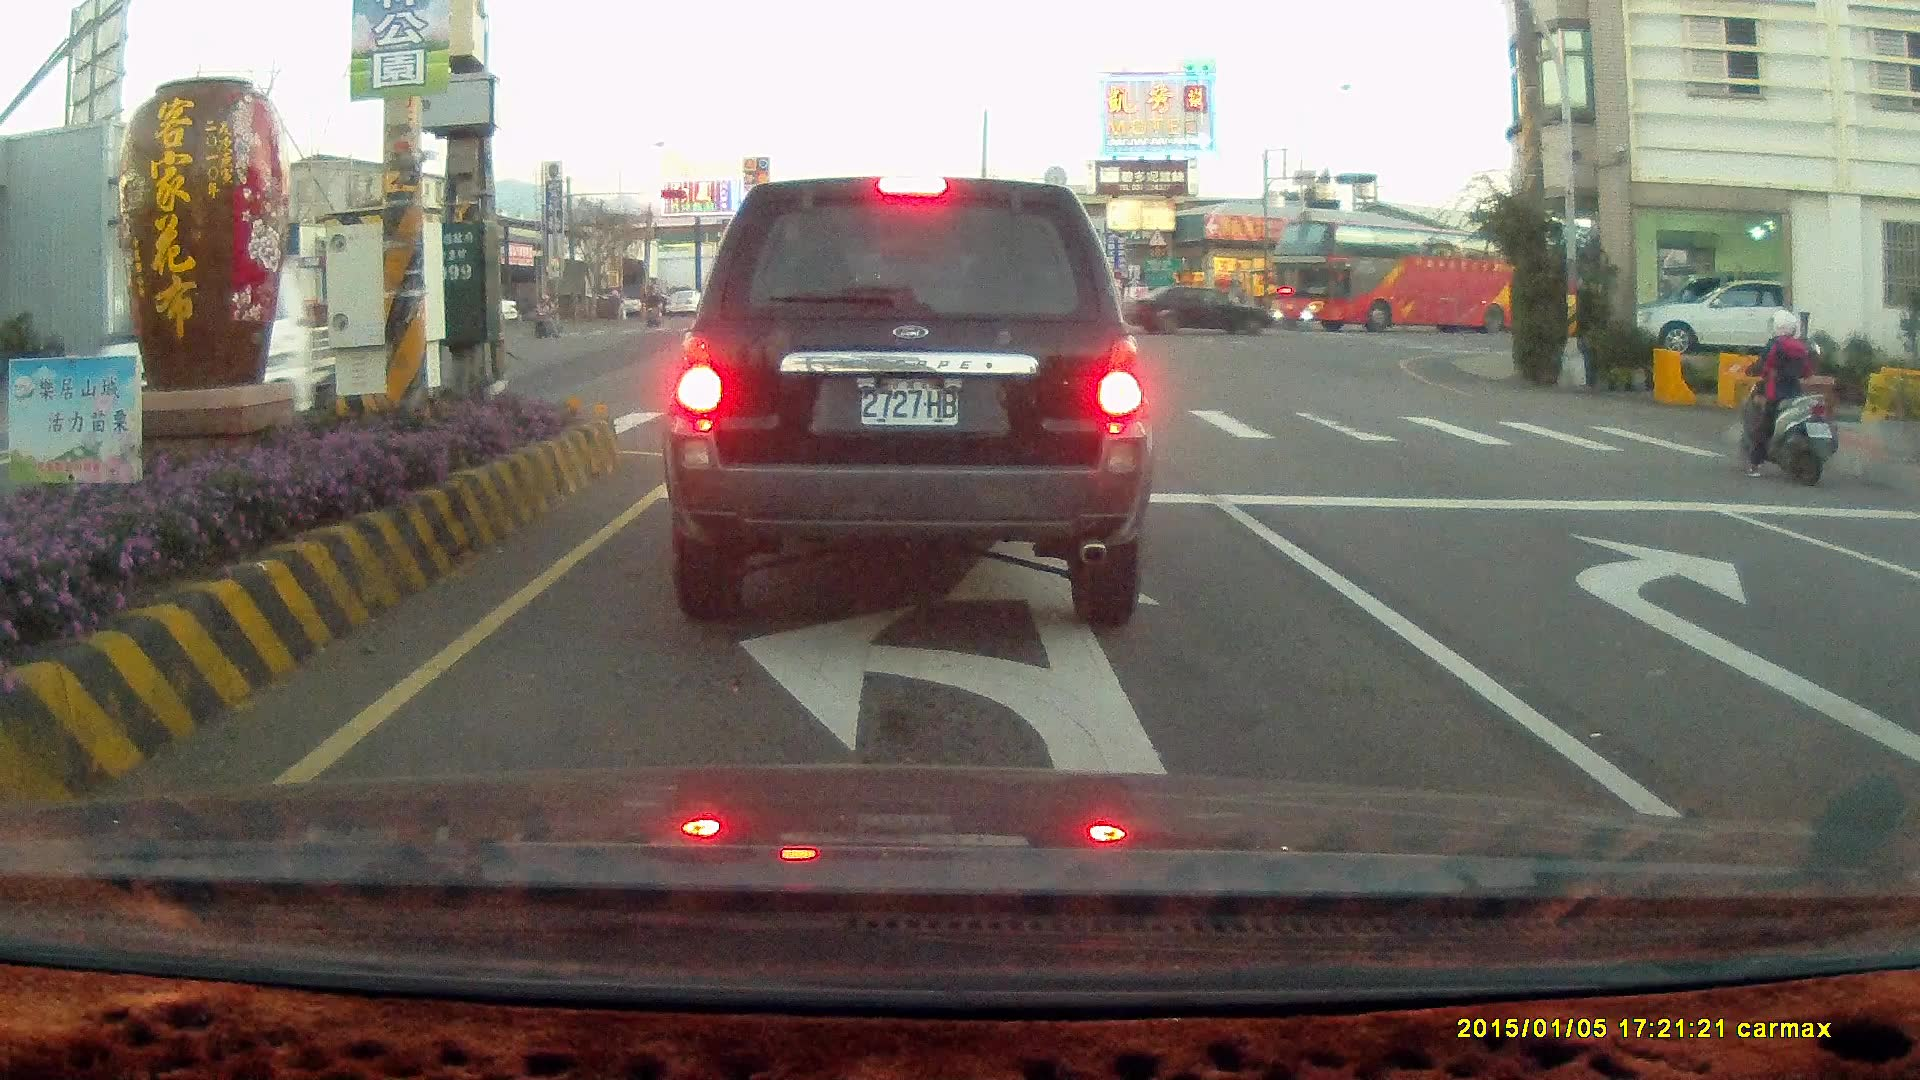rider: (1727, 307, 1836, 483), (532, 292, 561, 338), (641, 290, 662, 327)
vehicle: (660, 173, 1155, 630), (1256, 221, 1568, 334), (1622, 275, 1831, 354), (1642, 275, 1784, 356), (1115, 283, 1277, 341), (1120, 283, 1278, 340), (1896, 493, 1920, 836), (1883, 528, 1920, 690)
